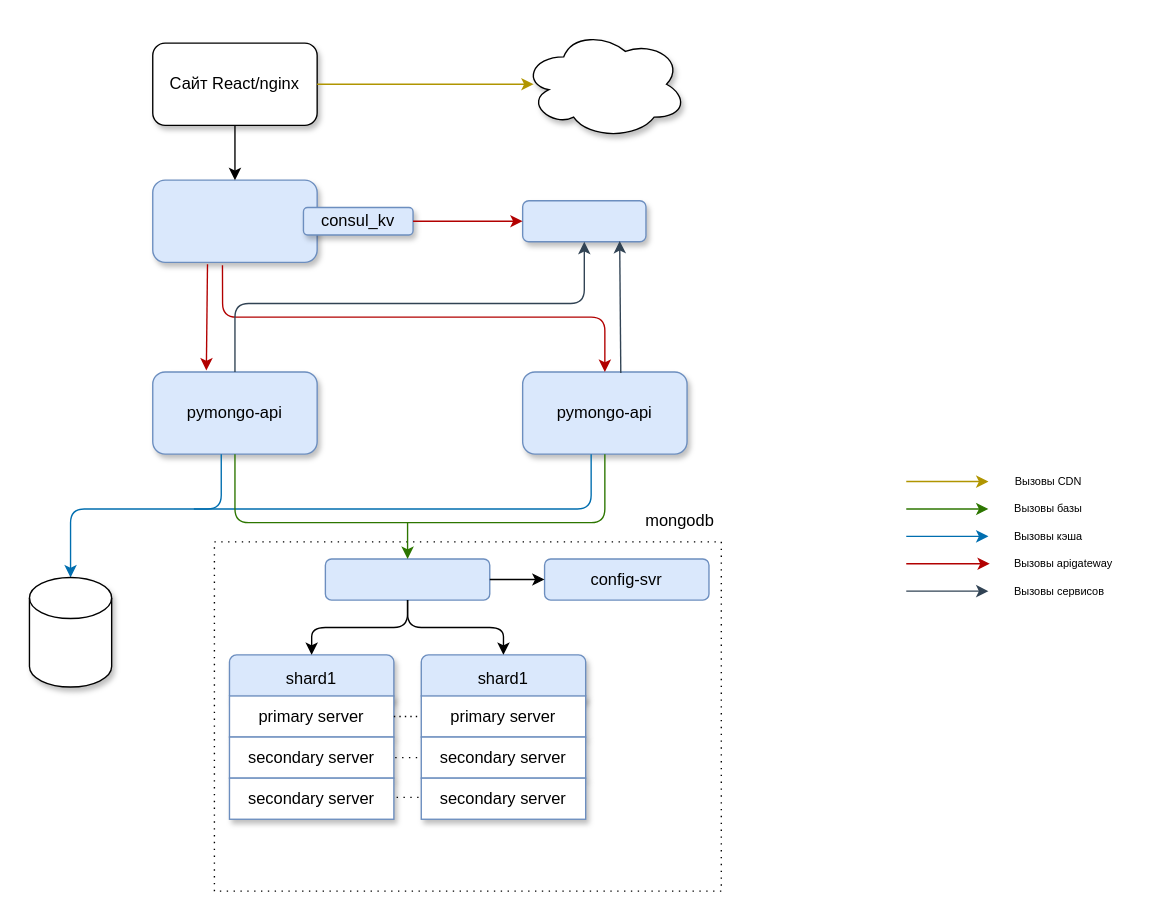
Some shapes in this 1156 by 915 pixel diagram are drawn without their labels. Here are the shapes that lost their labels. From the top down, the centre of each, then its label:
At point 605,86: "CDN".
At point 235,222: "APISIX Gateway".
At point 585,222: "Consul".
At point 407,579: "router".
At point 71,634: "Redis".
